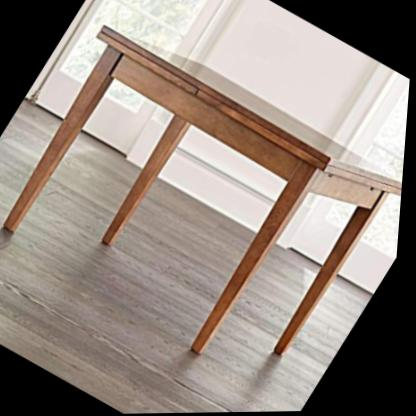Table: (0, 0, 416, 414)
Wooden floor: (0, 99, 378, 414)
